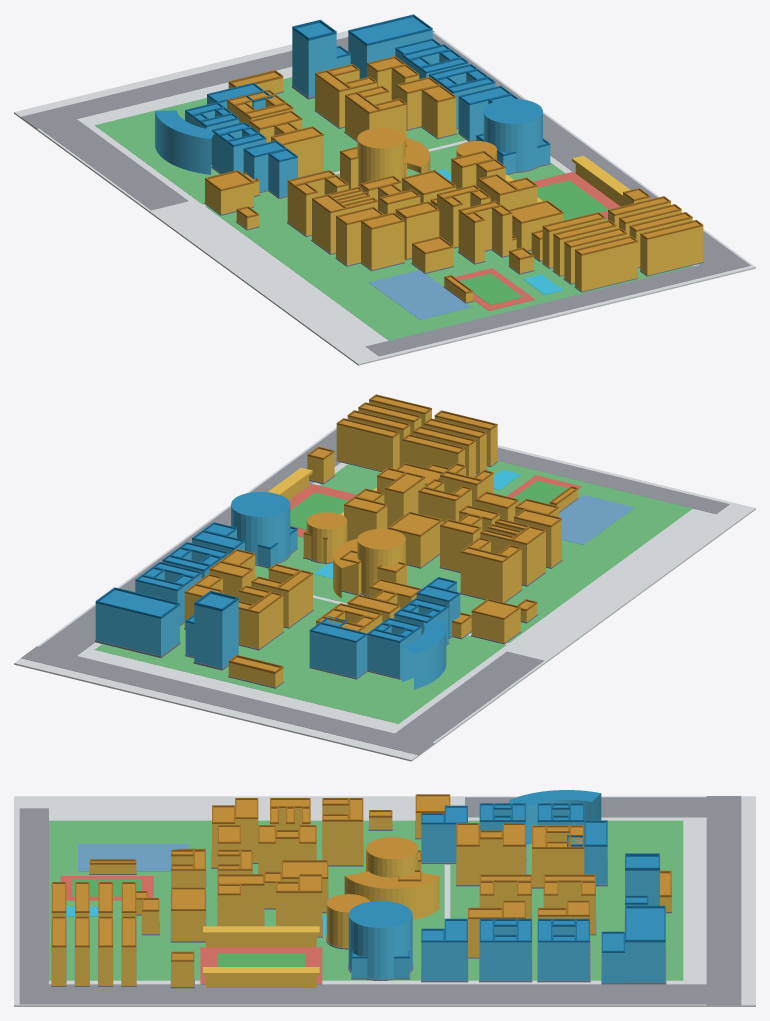
The model's file is campus.glb.
The picture shows the model from 3 angles, top to bottom: view 1: azimuth 30°, elevation 25°; view 2: azimuth 150°, elevation 25°; view 3: azimuth 270°, elevation 25°; orthographic projection. The views are drawn at different scales.
Parts seen in each view (by area): view 1: Campus_Green_Spaces, Campus_Ground_Plaza, Outer_Avenues, 34_教师公寓楼群, 51_预留文体楼, 08_图书馆, 15_4号学生公寓楼, 47_博物馆, 46_预留校前行政楼, 14_7号学生公寓楼, 45_会展接待中心, 02_教学楼A座 (+30 smaller); view 2: Campus_Green_Spaces, Campus_Ground_Plaza, Outer_Avenues, 34_教师公寓楼群, 47_博物馆, 08_图书馆, 51_预留文体楼, 46_预留校前行政楼, 18_1号学生公寓楼, 44_预留学院楼F, 04_教学楼C座, 19_2号学生公寓楼 (+29 smaller); view 3: Outer_Avenues, Campus_Green_Spaces, Campus_Ground_Plaza, 34_教师公寓楼群, 51_预留文体楼, 08_图书馆, 11_主体育场_观礼看台, 47_博物馆, 06_教学实验楼A座, 48_预留学院楼C, 49_预留学院楼D, 18_1号学生公寓楼 (+34 smaller).
Boxes of the visible parts, left/top/right/bottom form: Campus_Green_Spaces: left=95, top=77, right=692, bottom=340; Campus_Ground_Plaza: left=14, top=30, right=755, bottom=365; Outer_Avenues: left=21, top=30, right=750, bottom=356; 34_教师公寓楼群: left=542, top=196, right=703, bottom=292; 51_预留文体楼: left=476, top=99, right=550, bottom=174; 08_图书馆: left=340, top=128, right=430, bottom=190; 15_4号学生公寓楼: left=335, top=206, right=404, bottom=271; 47_博物馆: left=348, top=14, right=440, bottom=78; 46_预留校前行政楼: left=292, top=19, right=350, bottom=99; 14_7号学生公寓楼: left=458, top=200, right=512, bottom=264; 45_会展接待中心: left=155, top=110, right=214, bottom=174; 02_教学楼A座: left=396, top=76, right=456, bottom=139; Campus_Green_Spaces: left=95, top=461, right=692, bottom=723; Campus_Ground_Plaza: left=14, top=427, right=755, bottom=761; Outer_Avenues: left=21, top=429, right=729, bottom=755; 34_教师公寓楼群: left=336, top=394, right=497, bottom=477; 47_博物馆: left=95, top=587, right=180, bottom=657; 08_图书馆: left=333, top=529, right=406, bottom=598; 51_预留文体楼: left=231, top=492, right=297, bottom=568; 46_预留校前行政楼: left=185, top=590, right=238, bottom=670; 18_1号学生公寓楼: left=460, top=537, right=522, bottom=602; 44_预留学院楼F: left=309, top=616, right=367, bottom=679; 04_教学楼C座: left=238, top=585, right=283, bottom=650; 19_2号学生公寓楼: left=480, top=518, right=546, bottom=586; Outer_Avenues: left=19, top=796, right=741, bottom=1005; Campus_Green_Spaces: left=49, top=820, right=683, bottom=980; Campus_Ground_Plaza: left=14, top=796, right=755, bottom=1006; 34_教师公寓楼群: left=51, top=882, right=136, bottom=986; 51_预留文体楼: left=347, top=901, right=413, bottom=981; 08_图书馆: left=344, top=837, right=439, bottom=919; 11_主体育场_观礼看台: left=203, top=926, right=319, bottom=987; 47_博物馆: left=601, top=905, right=666, bottom=984; 06_教学实验楼A座: left=456, top=823, right=526, bottom=886; 48_预留学院楼C: left=537, top=918, right=590, bottom=982; 49_预留学院楼D: left=479, top=918, right=532, bottom=982; 18_1号学生公寓楼: left=322, top=798, right=363, bottom=866.
Size of the model in its own units: 170 by 25.6 by 255.
